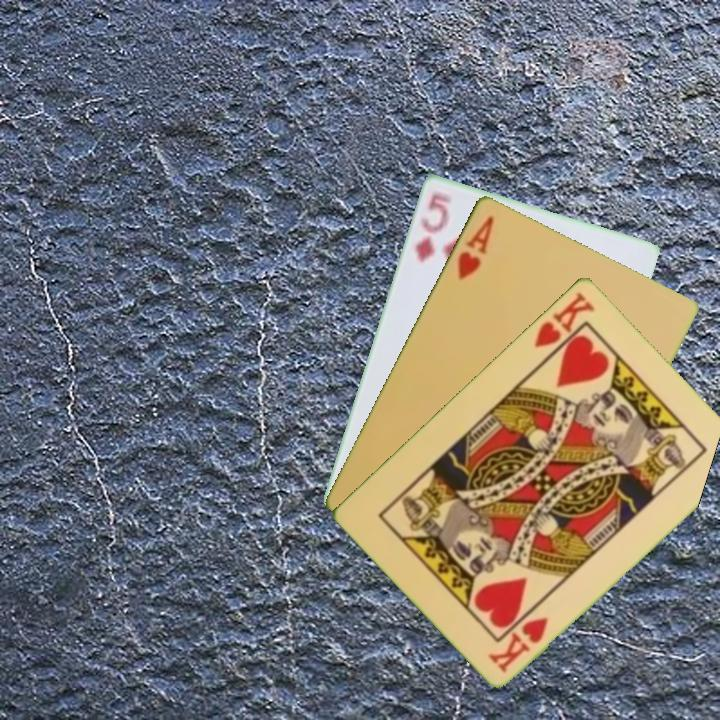5d: (411, 188, 454, 266)
Ah: (454, 211, 497, 282)
Kh: (531, 287, 598, 363), (484, 612, 552, 675)
